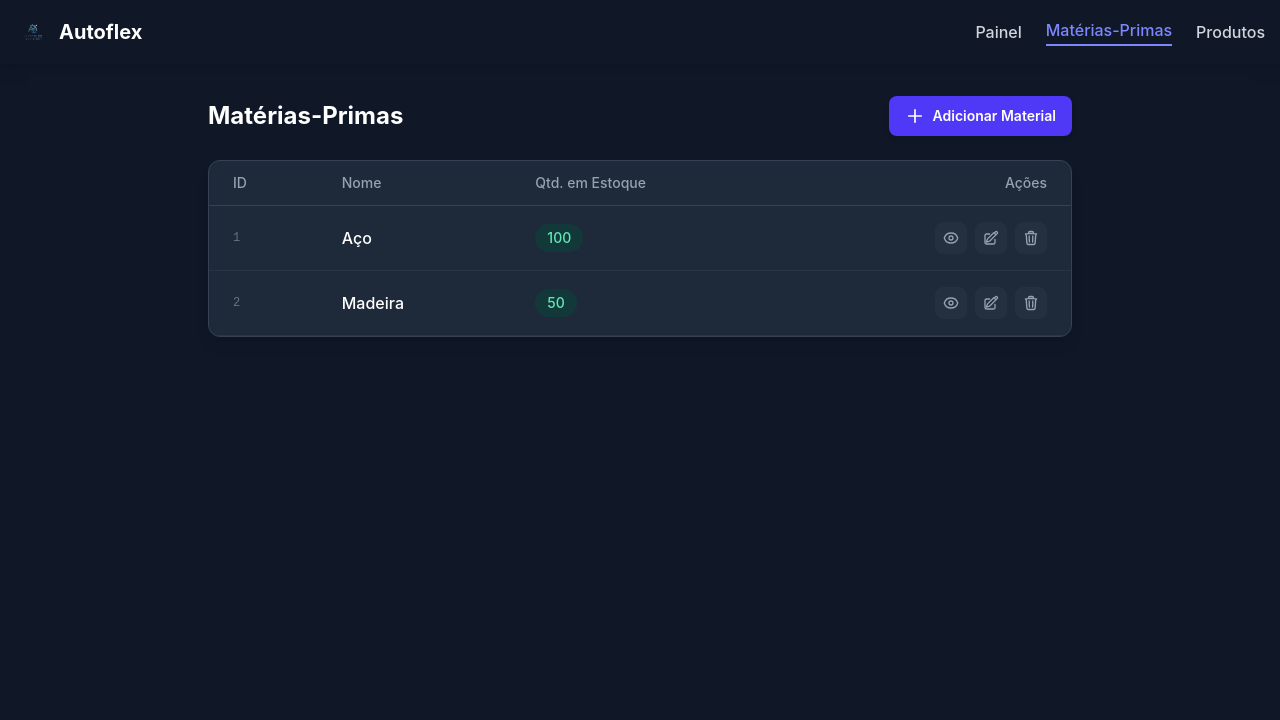
Inventory Management App E2E › should open delete confirmation for a material
// Click the delete icon button (red trash) on the first row
Click the button titled "Excluir Material" in the row of "Aço": (1031,238) [1015, 222, 1047, 254]
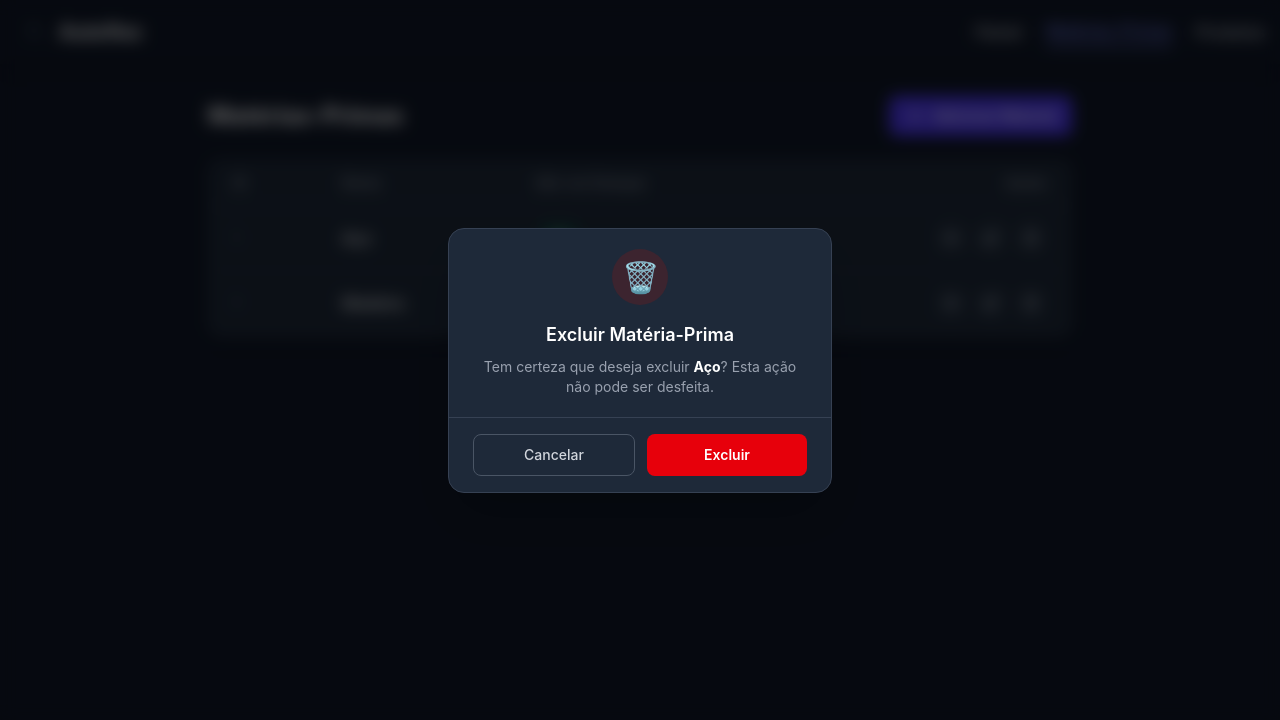
Now the heading "Excluir Matéria-Prima" is shown, box [546, 324, 734, 344]
Now the text "Esta ação não pode ser desfeita" is shown, box [566, 358, 796, 395]
// Cancel the deletion
Click the button "Cancelar": (554,455) [473, 434, 635, 476]
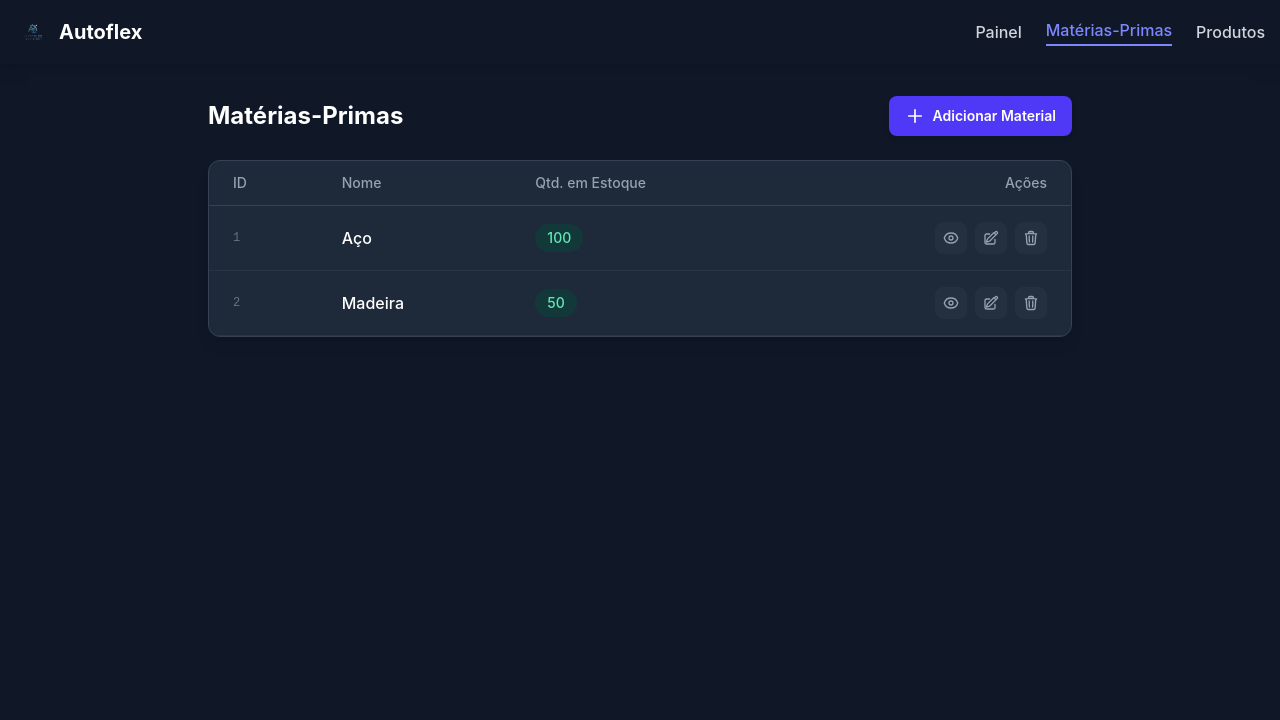
Now the heading "Excluir Matéria-Prima" is gone
